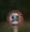limite 50: (6, 9, 23, 25)
